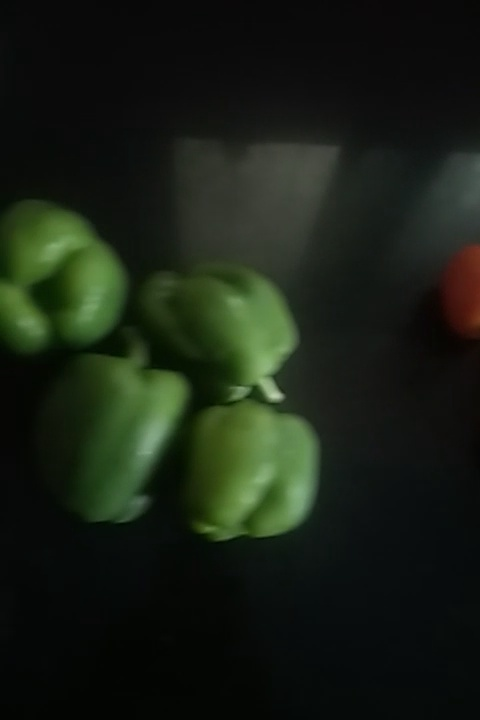capsicum: (30, 353, 183, 532), (132, 258, 307, 399), (4, 198, 133, 364), (193, 399, 332, 551)
tomato: (443, 240, 480, 342)
